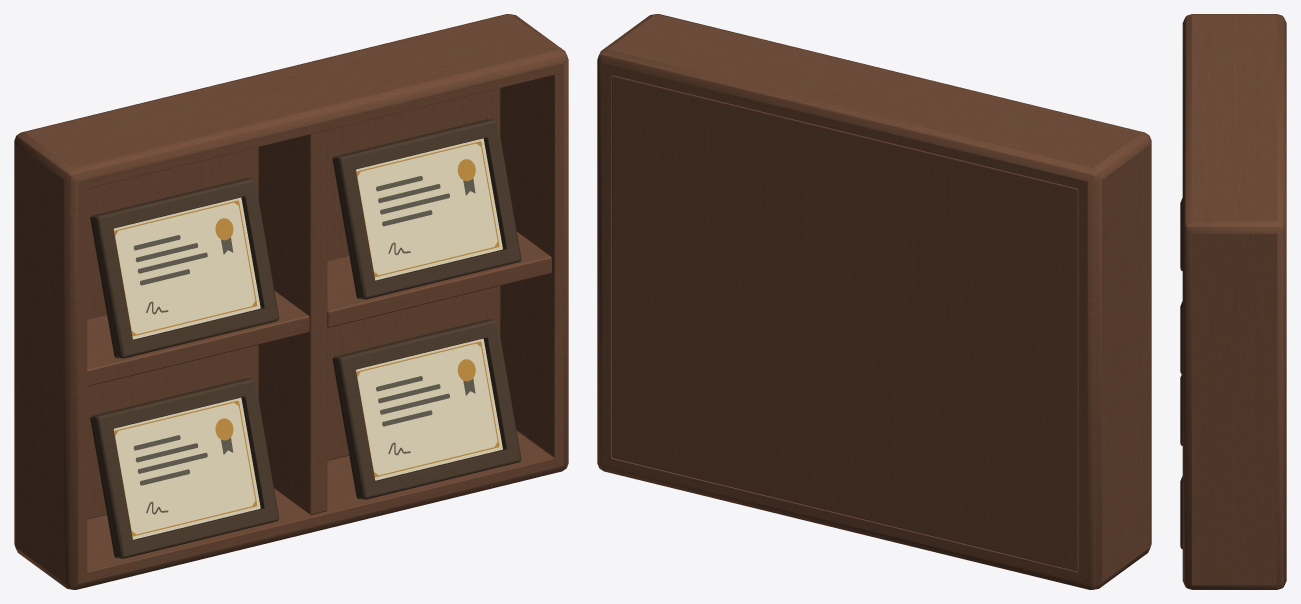
File: certificate-shelf.glb
The picture shows the model from 3 angles, left to right: view 1: azimuth 30°, elevation 25°; view 2: azimuth 150°, elevation 25°; view 3: azimuth 270°, elevation 25°; orthographic projection. The views are drawn at different scales.
Parts seen in each view (by area): view 1: Central vertical divider__asset.001, Certificate 1 paper__asset.001, Frame 1 joined rim__asset.001, 1 award ribbon__asset.001, 1 award seal__asset.001, Frame 1 backing__asset.001; view 2: Central vertical divider__asset.001; view 3: Central vertical divider__asset.001, Frame 1 joined rim__asset.001.
Part boxes in pixels (x1,y1,x2,y2): Central vertical divider__asset.001: (14, 14, 568, 589); Certificate 1 paper__asset.001: (113, 138, 502, 539); Frame 1 joined rim__asset.001: (92, 119, 521, 558); 1 award ribbon__asset.001: (133, 176, 475, 514); 1 award seal__asset.001: (114, 141, 499, 536); Frame 1 backing__asset.001: (90, 119, 489, 558); Central vertical divider__asset.001: (597, 14, 1151, 589); Central vertical divider__asset.001: (1182, 14, 1286, 589); Frame 1 joined rim__asset.001: (1180, 198, 1182, 549).
Bounding box in the file's own units: 1.2 × 0.9601 × 0.2504.
Materials: 6 (2 with a texture image).
